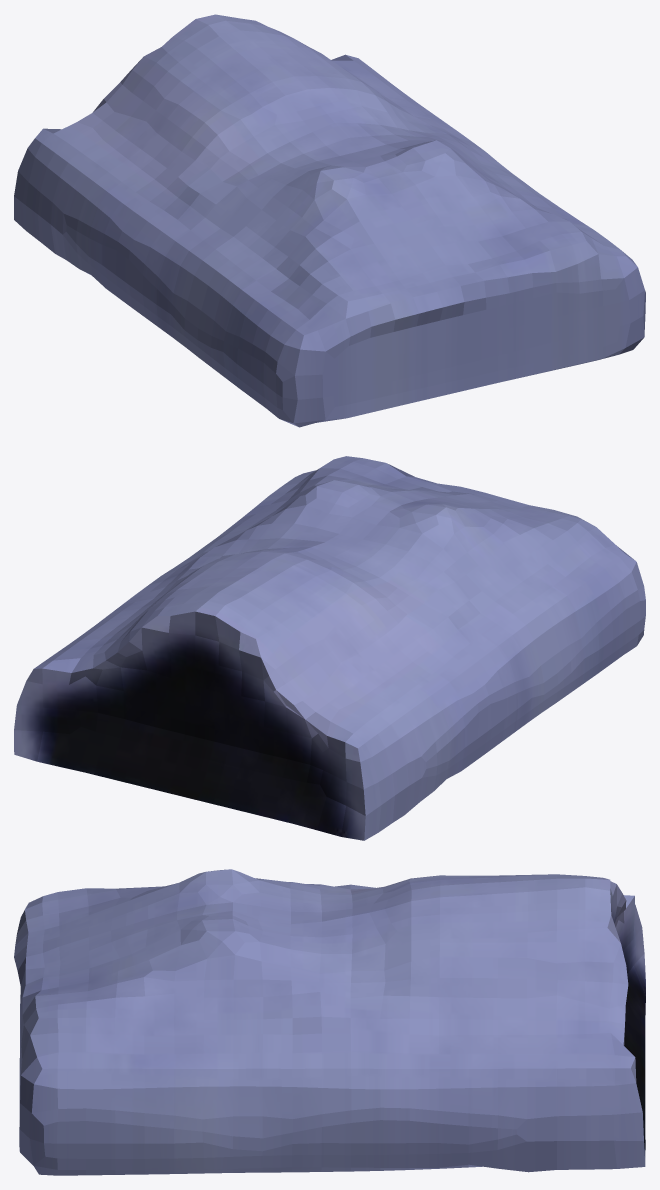
File: bedsheets.fbx
3 renders of one model, top to bottom at view 1: azimuth 30°, elevation 25°; view 2: azimuth 150°, elevation 25°; view 3: azimuth 270°, elevation 25°, orthographic. The views are drawn at different scales.
Visible parts, largest first — view 1: Plane; view 2: Plane; view 3: Plane.
Part boxes in pixels (<box>): Plane: <box>14,14,645,427</box>; Plane: <box>14,456,645,840</box>; Plane: <box>14,869,645,1175</box>.
Size of the model in its own units: 109 by 53.22 by 150.
